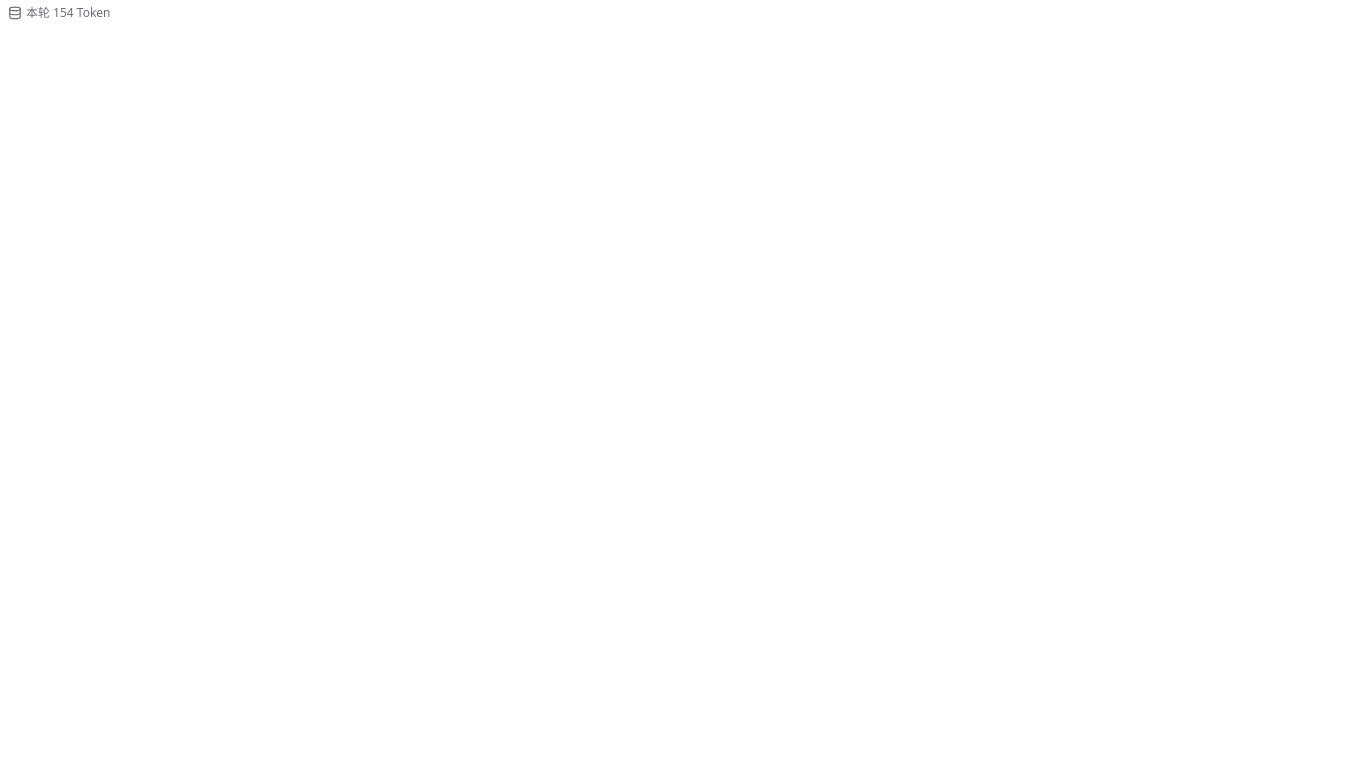
Test: 单轮 Token 用量 › 显示后端上报的真实数值，不再按字符数估算
Step 1. Click the button "本轮 154 Token" → [59, 13], box [0,0,118,26]
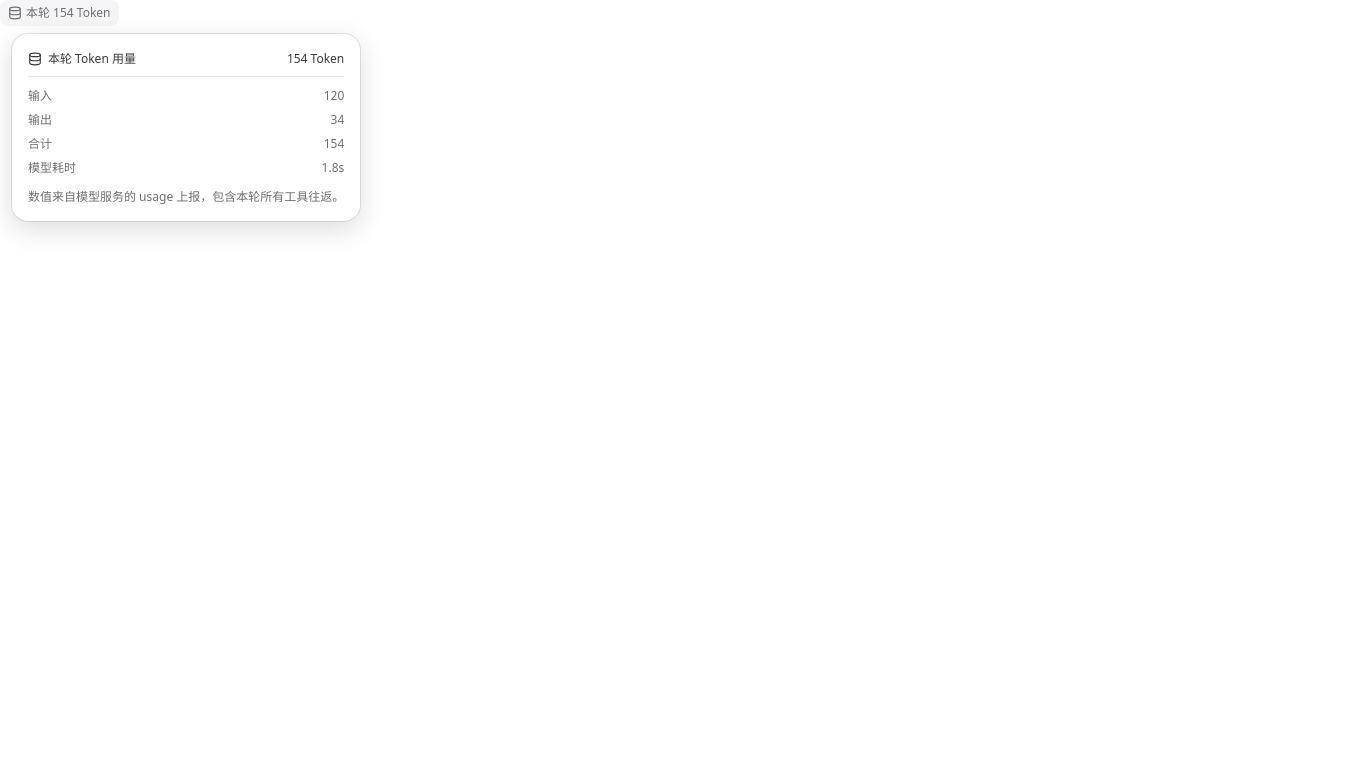
Result: the dialog "本轮 Token 用量" shows "120" at [324,87,344,104]
Result: the dialog "本轮 Token 用量" shows "34" at [331,111,344,128]
Result: the dialog "本轮 Token 用量" shows "1.8s" at [12,34,360,221]
